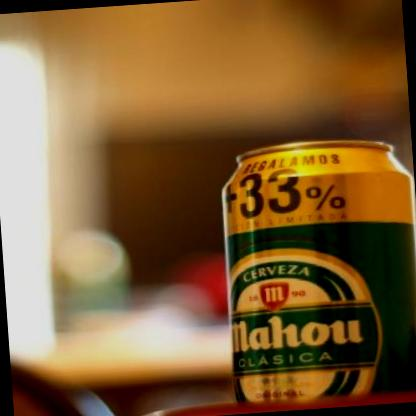alumunium_can: (218, 134, 416, 414)
